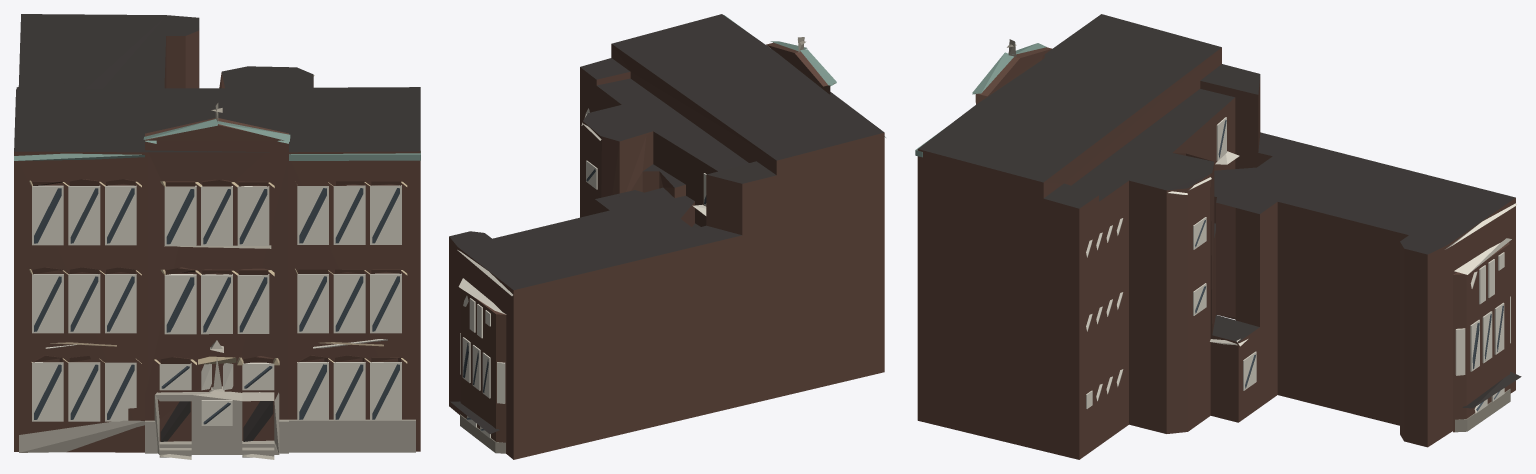
The model's file is oostenburgergracht-15.lod1.glb.
3 renders of one model, left to right at view 1: azimuth 30°, elevation 25°; view 2: azimuth 150°, elevation 25°; view 3: azimuth 270°, elevation 25°, orthographic. The views are drawn at different scales.
Parts seen in each view (by area): view 1: oostenburgergracht-15; view 2: oostenburgergracht-15; view 3: oostenburgergracht-15.
Part boxes in pixels (x1,y1,x2,y2): oostenburgergracht-15: (14, 14, 420, 459); oostenburgergracht-15: (449, 14, 885, 459); oostenburgergracht-15: (915, 14, 1521, 459).
Size of the model in its own units: 23.79 by 19.91 by 34.91.
